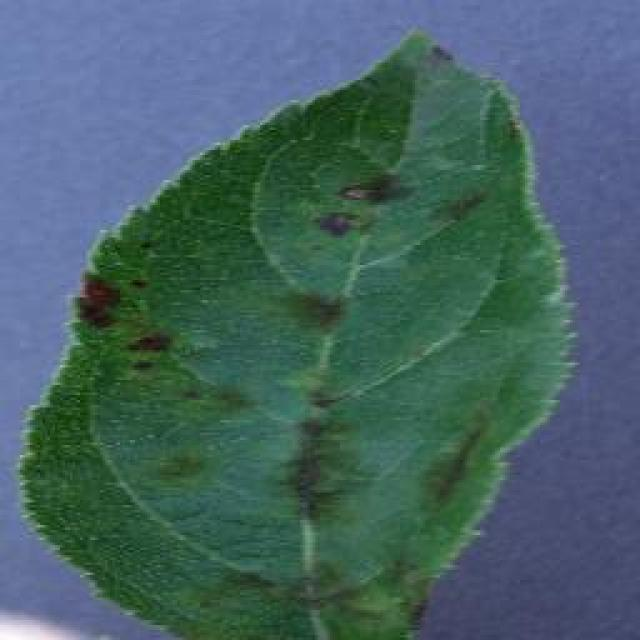apple scab disease: (15, 28, 580, 638)
